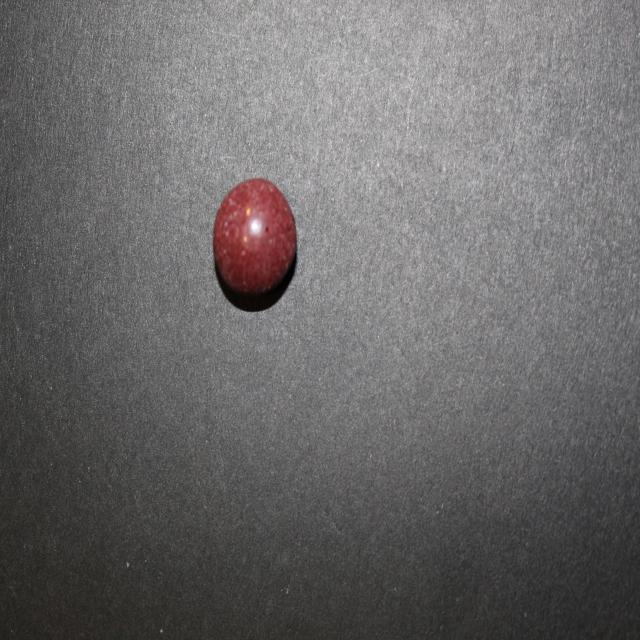smartie: (213, 177, 296, 294)
